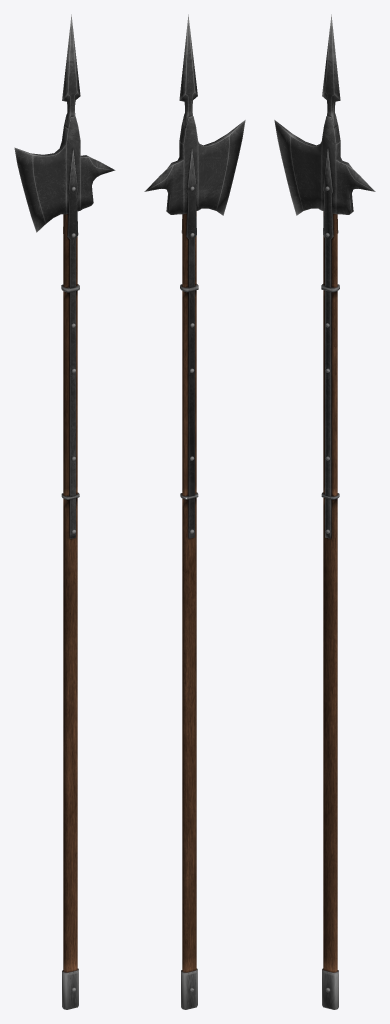
Rendered from SM_Halberd_04.fbx.
The picture shows the model from 3 angles, left to right: view 1: azimuth 30°, elevation 25°; view 2: azimuth 210°, elevation 25°; view 3: azimuth 330°, elevation 25°; orthographic projection.
Visible parts, largest first — view 1: SM_Halberd_04_LOD0; view 2: SM_Halberd_04_LOD0; view 3: SM_Halberd_04_LOD0.
Boxes of the visible parts, left/top/right/bottom form: SM_Halberd_04_LOD0: left=14, top=14, right=115, bottom=1009; SM_Halberd_04_LOD0: left=144, top=14, right=245, bottom=1009; SM_Halberd_04_LOD0: left=274, top=14, right=375, bottom=1009.
Size of the model in its own units: 16.74 by 2.08 by 157.
Materials: 1 (1 with a texture image).
